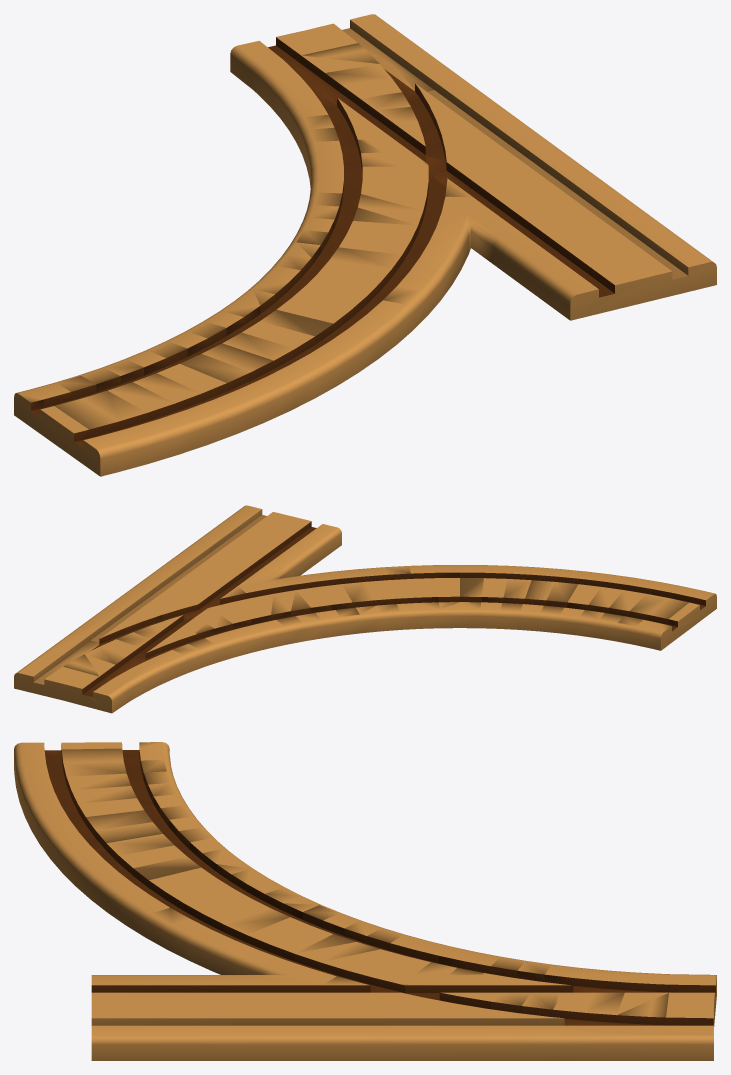
Rendered from JunctionRight.fbx.
3 renders of one model, top to bottom at view 1: azimuth 30°, elevation 25°; view 2: azimuth 150°, elevation 25°; view 3: azimuth 270°, elevation 25°, orthographic. The views are drawn at different scales.
Visible parts, largest first — view 1: JunctionRight; view 2: JunctionRight; view 3: JunctionRight.
Boxes of the visible parts, x1,y1,x2,y2 form: JunctionRight: (14,14,716,476); JunctionRight: (14,505,716,713); JunctionRight: (14,742,716,1060).
Size of the model in its own units: 4.51 by 0.16 by 4.52.
